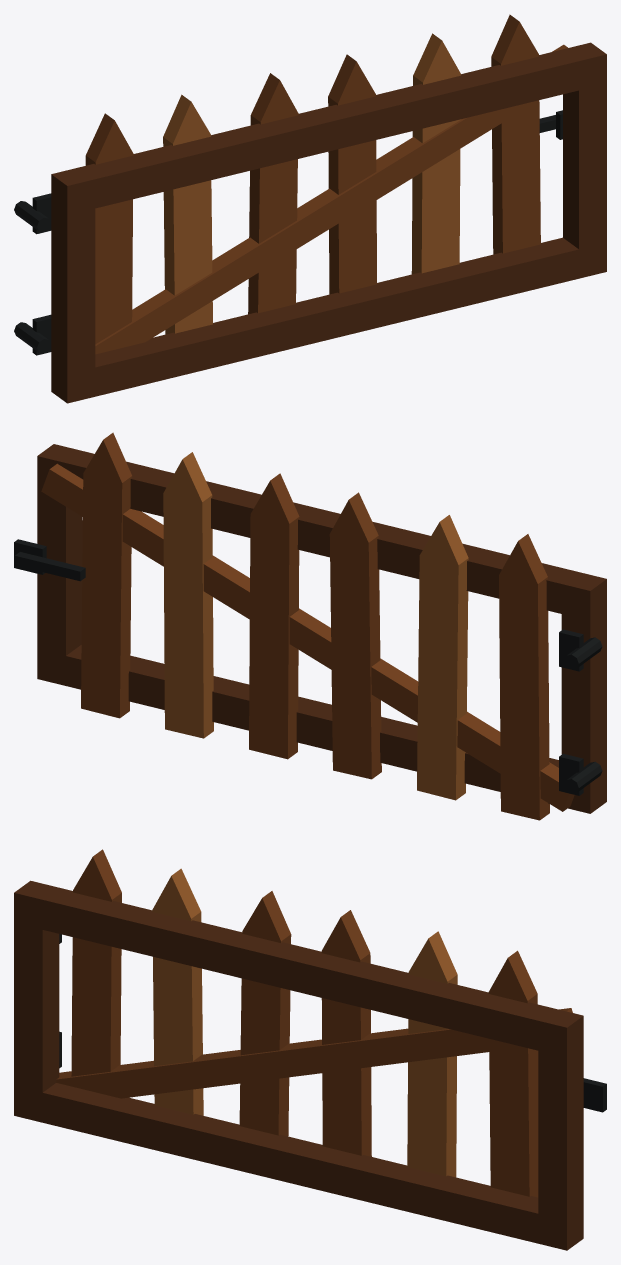
Rendered from fence_gate_leaf_3m.obj.
3 views of the same model, one above another, from view 1: azimuth 30°, elevation 25°; view 2: azimuth 150°, elevation 25°; view 3: azimuth 330°, elevation 25° (orthographic). The views are drawn at different scales.
Parts seen in each view (by area): view 1: gate_top, gate_bottom, diagonal_brace, gate_left, gate_picket_6, gate_right, gate_picket_3, gate_picket_4, gate_picket_2, gate_picket_5, gate_picket_1, hinge_pin_1 (+1 smaller); view 2: gate_picket_1, gate_picket_3, gate_picket_5, gate_picket_4, gate_picket_2, gate_picket_6, gate_top, diagonal_brace, gate_bottom, gate_left, gate_right, latch_handle (+5 smaller); view 3: gate_top, gate_bottom, diagonal_brace, gate_right, gate_picket_6, gate_left, gate_picket_1, gate_picket_5, gate_picket_2, gate_picket_4, gate_picket_3, latch_plate.
Boxes of the visible parts, box(x1,y1,x2,y2) form: gate_top: box(56, 44, 602, 213); gate_bottom: box(71, 237, 602, 402); diagonal_brace: box(95, 44, 567, 354); gate_left: box(51, 167, 95, 403); gate_picket_6: box(491, 14, 540, 254); gate_right: box(563, 42, 606, 278); gate_picket_3: box(248, 73, 298, 314); gate_picket_4: box(328, 54, 377, 294); gate_picket_2: box(163, 94, 212, 334); gate_picket_5: box(411, 33, 460, 274); gate_picket_1: box(85, 113, 133, 344); hinge_pin_1: box(14, 322, 50, 353); gate_picket_1: box(499, 534, 549, 820); gate_picket_3: box(329, 492, 381, 779); gate_picket_5: box(163, 452, 213, 738); gate_picket_4: box(249, 473, 299, 759); gate_picket_2: box(417, 515, 468, 800); gate_picket_6: box(81, 432, 132, 718); gate_top: box(41, 445, 602, 619); diagonal_brace: box(41, 463, 574, 811); gate_bottom: box(41, 645, 586, 812); gate_left: box(561, 572, 606, 813); gate_right: box(37, 444, 82, 685); latch_handle: box(14, 552, 85, 581); gate_top: box(18, 881, 578, 1056); gate_bottom: box(18, 1083, 562, 1249); diagonal_brace: box(56, 1008, 572, 1098); gate_right: box(538, 1009, 583, 1250); gate_picket_6: box(488, 950, 538, 1197); gate_left: box(14, 880, 59, 1122); gate_picket_1: box(71, 849, 121, 1076); gate_picket_5: box(407, 931, 457, 1177); gate_picket_2: box(152, 868, 203, 1115); gate_picket_4: box(321, 910, 371, 1156); gate_picket_3: box(239, 891, 291, 1136); latch_plate: box(583, 1078, 606, 1112).
Size of the model in its own units: 2.81 by 1.28 by 0.35.
